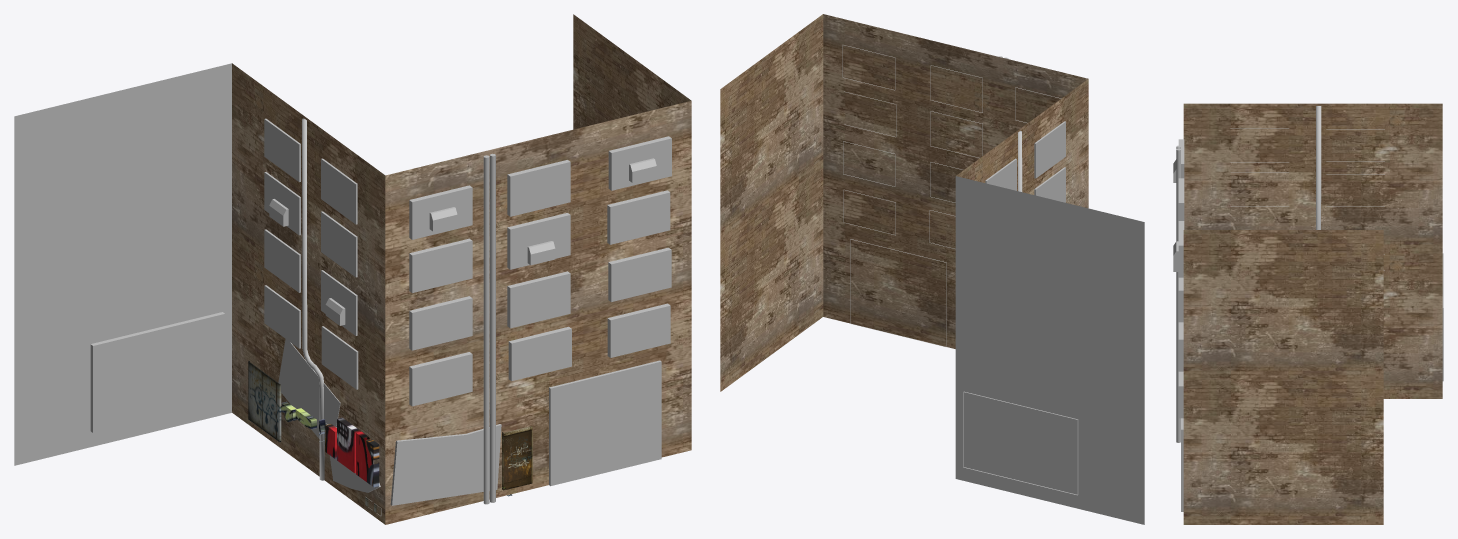
File: alley_building_3.FBX
The picture shows the model from 3 angles, left to right: view 1: azimuth 30°, elevation 25°; view 2: azimuth 150°, elevation 25°; view 3: azimuth 270°, elevation 25°; orthographic projection. The views are drawn at different scales.
Visible parts, largest first — view 1: alley_building_3; view 2: alley_building_3; view 3: alley_building_3.
Part boxes in pixels (left/top/right/bottom): alley_building_3: left=14, top=14, right=691, bottom=524; alley_building_3: left=720, top=14, right=1144, bottom=524; alley_building_3: left=1173, top=103, right=1443, bottom=524.
Size of the model in its own units: 2306 by 1470 by 1220.
